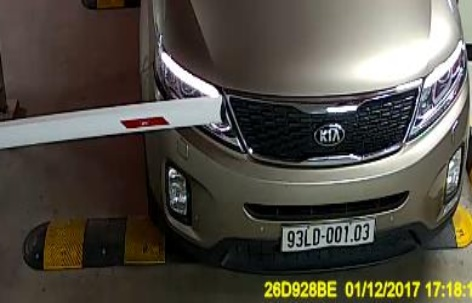plate: (279, 221, 375, 250)
